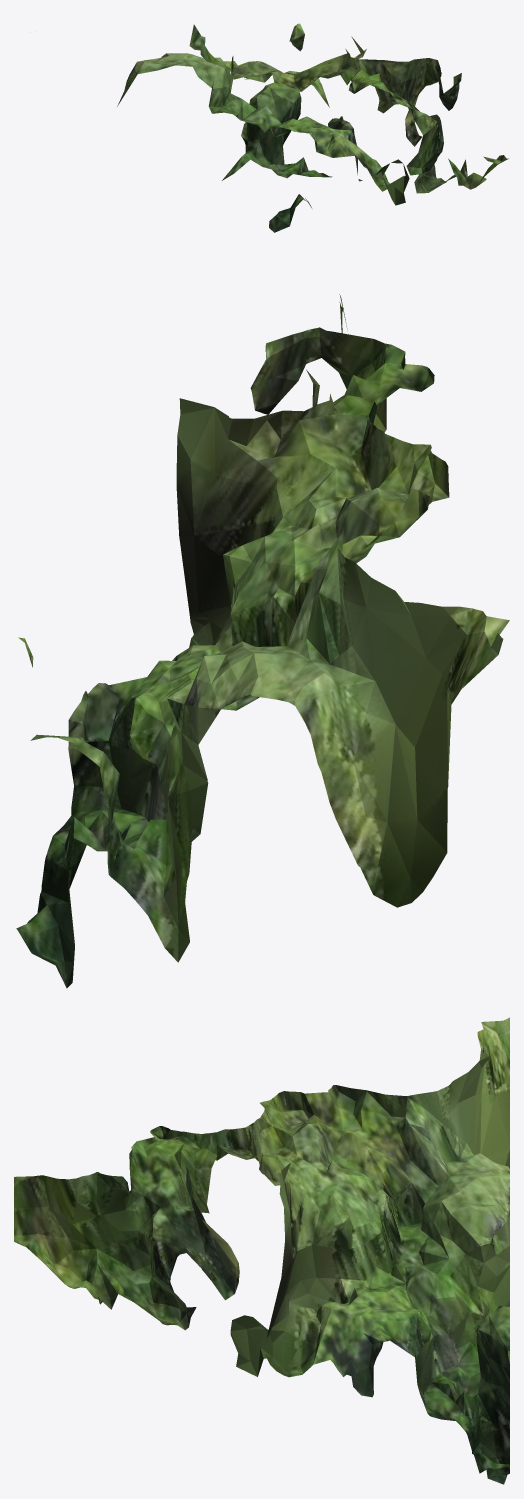
The picture shows the model from 3 angles, top to bottom: view 1: azimuth 30°, elevation 25°; view 2: azimuth 150°, elevation 25°; view 3: azimuth 270°, elevation 25°; orthographic projection. The views are drawn at different scales.
Size of the model in its own units: 20.59 by 18.51 by 26.11.
Materials: 3 (3 with a texture image).
